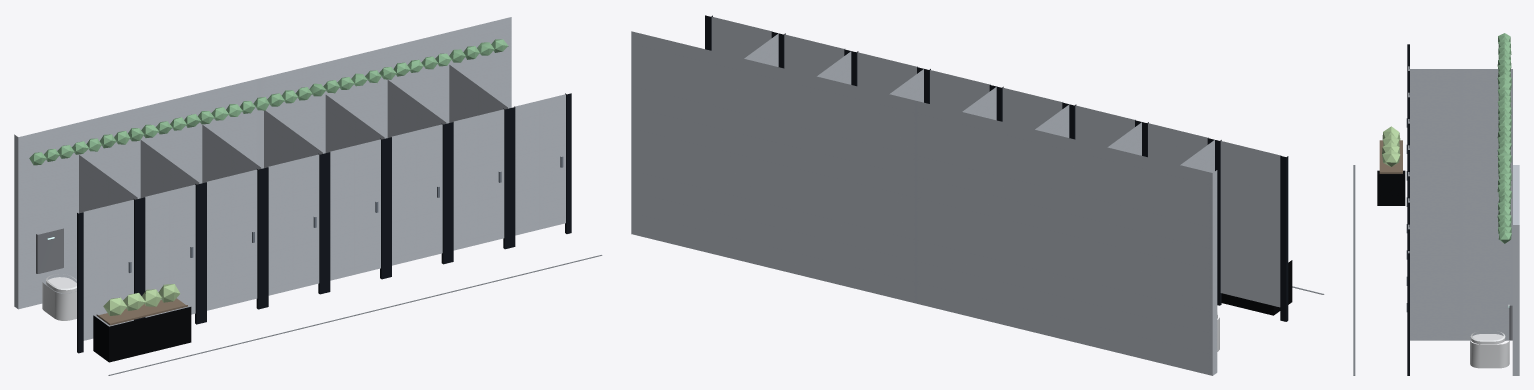
3 renders of one model, left to right at view 1: azimuth 30°, elevation 25°; view 2: azimuth 150°, elevation 25°; view 3: azimuth 270°, elevation 25°, orthographic. The views are drawn at different scales.
Parts seen in each view (by area): view 1: Stall_Doors, Wet_Wall, Pilasters, Partitions, Green_Wall_Band, Planter_Trough, WC, Foliage, WC_VacUnit, Aisle_Centre_Strip, Planter_Soil; view 2: Wet_Wall, Stall_Doors, Partitions, Pilasters, Planter_Trough; view 3: Partitions, Green_Wall_Band, Wet_Wall, WC, Pilasters, Planter_Trough, Foliage, Aisle_Centre_Strip, Planter_Soil.
Part boxes in pixels (x1,y1,x2,y2): Stall_Doors: (82,94,565,340); Wet_Wall: (14,17,511,309); Pilasters: (77,93,571,353); Partitions: (79,65,509,213); Green_Wall_Band: (29,39,508,165); Planter_Trough: (93,307,191,362); WC: (42,274,76,320); Foliage: (103,284,180,315); WC_VacUnit: (36,228,63,273); Aisle_Centre_Strip: (108,255,602,375); Planter_Soil: (96,298,187,325); Wet_Wall: (631,31,1217,375); Stall_Doors: (711,16,1281,307); Partitions: (744,33,1214,172); Pilasters: (705,15,1288,321); Planter_Trough: (1221,260,1292,315); Partitions: (1409,69,1512,340); Green_Wall_Band: (1497,33,1511,243); Wet_Wall: (1512,165,1519,375); WC: (1470,332,1509,368); Pilasters: (1407,44,1409,375); Planter_Trough: (1377,170,1405,205); Foliage: (1382,126,1400,166); Aisle_Centre_Strip: (1353,165,1355,375); Planter_Soil: (1379,140,1402,173).
Size of the model in its own units: 7.2 by 2.4 by 2.4.
Materials: 11 (4 with a texture image).
